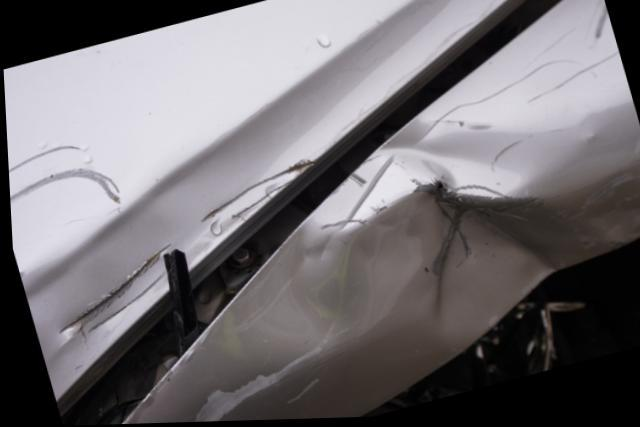dent: (247, 121, 567, 352), (19, 204, 208, 362)
dislocated part: (49, 0, 581, 426)
scratch: (436, 0, 620, 123), (179, 349, 309, 423), (566, 146, 640, 259), (7, 140, 120, 208), (198, 159, 316, 223)
